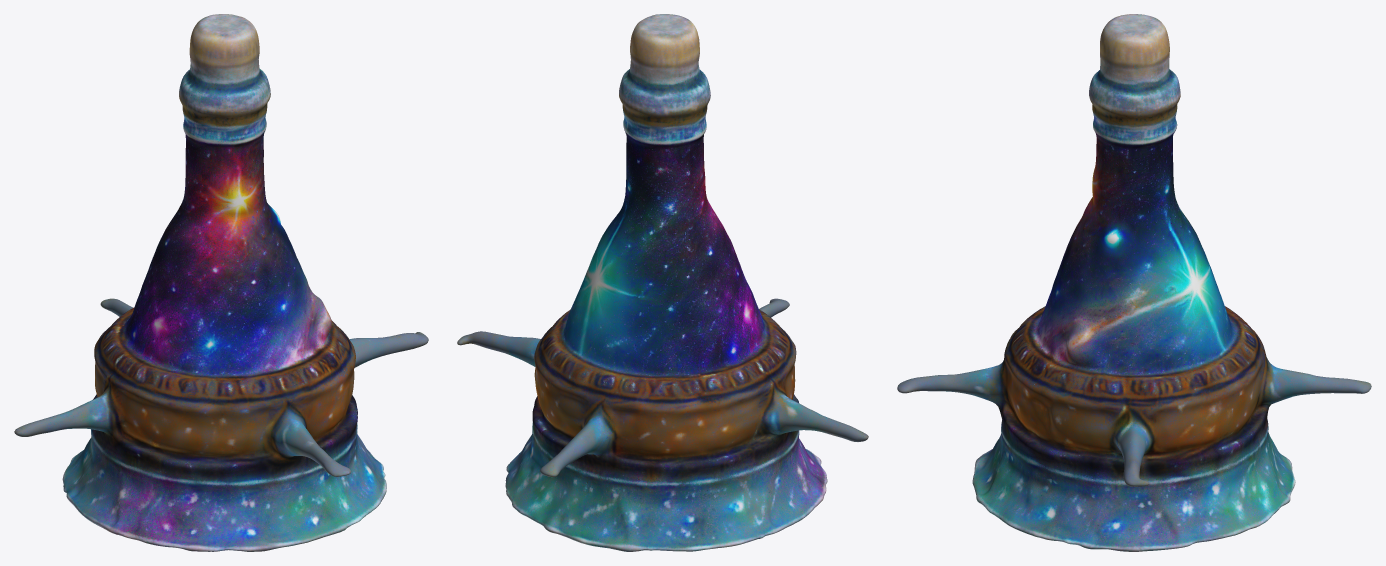
File: potion.glb
The picture shows the model from 3 angles, left to right: view 1: azimuth 30°, elevation 25°; view 2: azimuth 150°, elevation 25°; view 3: azimuth 270°, elevation 25°; orthographic projection.
Visible parts, largest first — view 1: model; view 2: model; view 3: model.
Boxes of the visible parts, x1,y1,x2,y2 form: model: (14,14,428,551); model: (457,14,868,551); model: (897,14,1371,551).
Size of the model in its own units: 1.5 by 1.62 by 1.51.
Materials: 1 (1 with a texture image).
